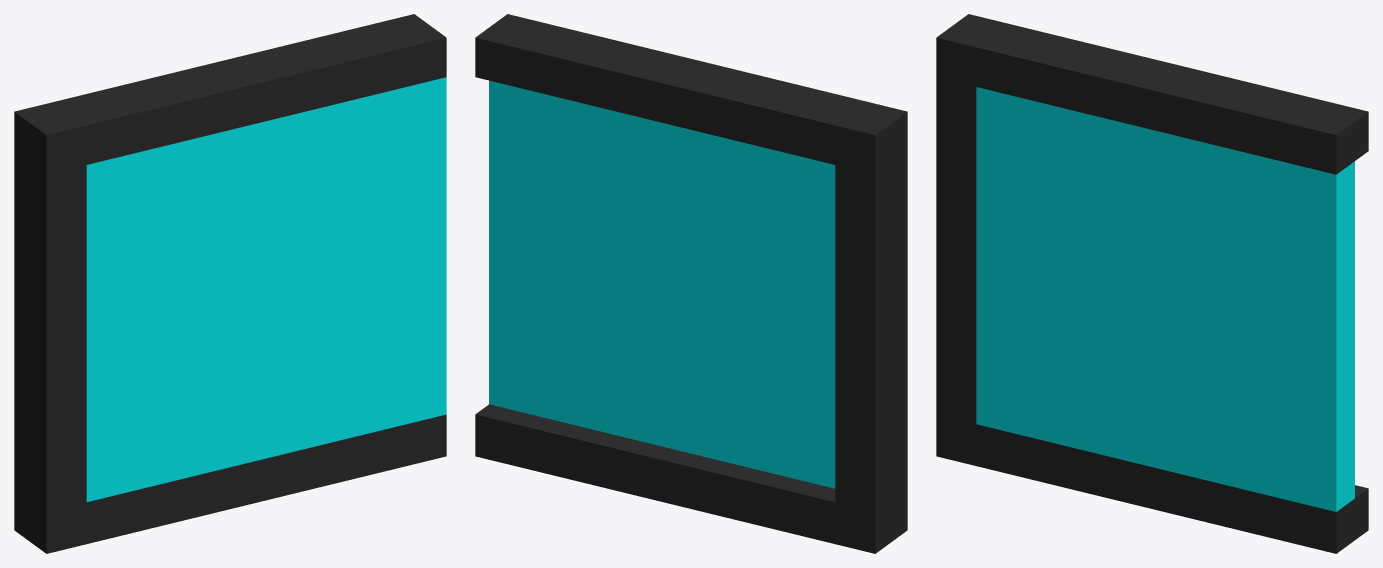
Rendered from MOD_FenetreSup.FBX.
3 views of the same model, side by side, from view 1: azimuth 30°, elevation 25°; view 2: azimuth 150°, elevation 25°; view 3: azimuth 330°, elevation 25° (orthographic).
Parts seen in each view (by area): view 1: MOD_murc003; view 2: MOD_murc003; view 3: MOD_murc003.
Boxes of the visible parts, box(x1,y1,x2,y2) form: MOD_murc003: box(14, 14, 446, 553); MOD_murc003: box(475, 14, 907, 553); MOD_murc003: box(936, 14, 1368, 553).
Bounding box in the file's own units: 0.9528 × 0.9528 × 0.1334.
